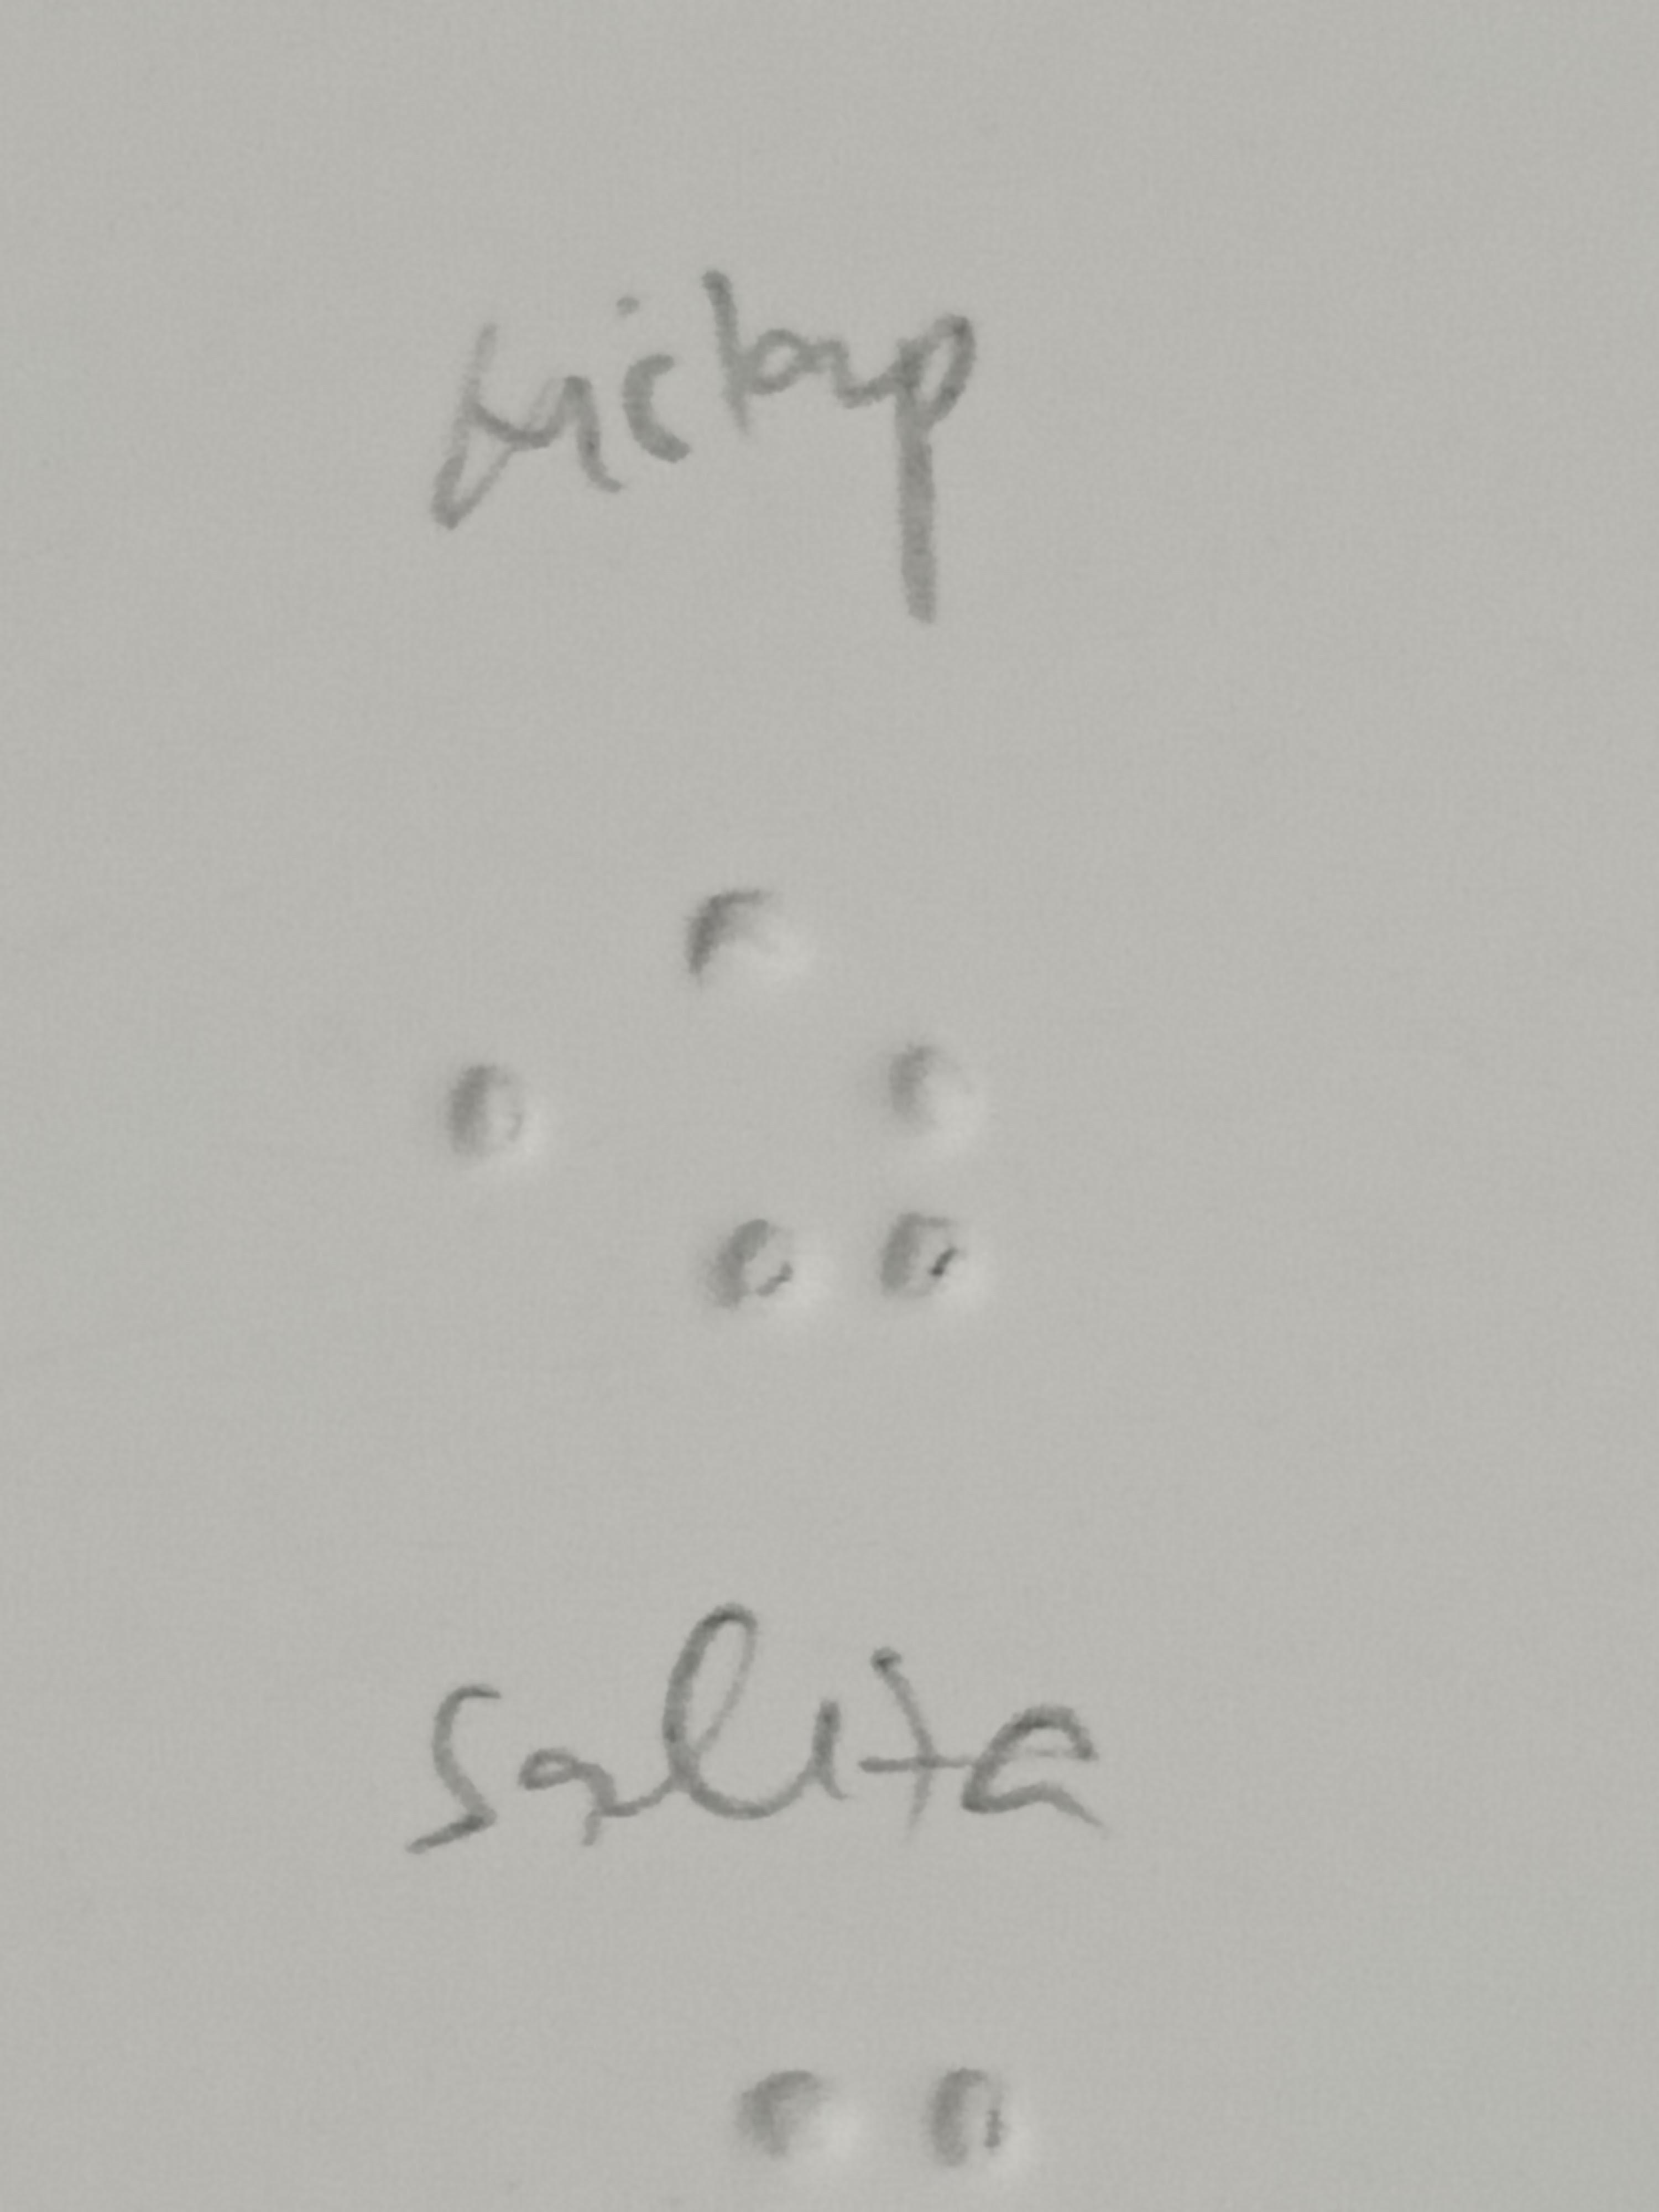dot_5: (240, 883, 532, 1325)
two_cell_alphabet_salita: (687, 874, 978, 1317)
